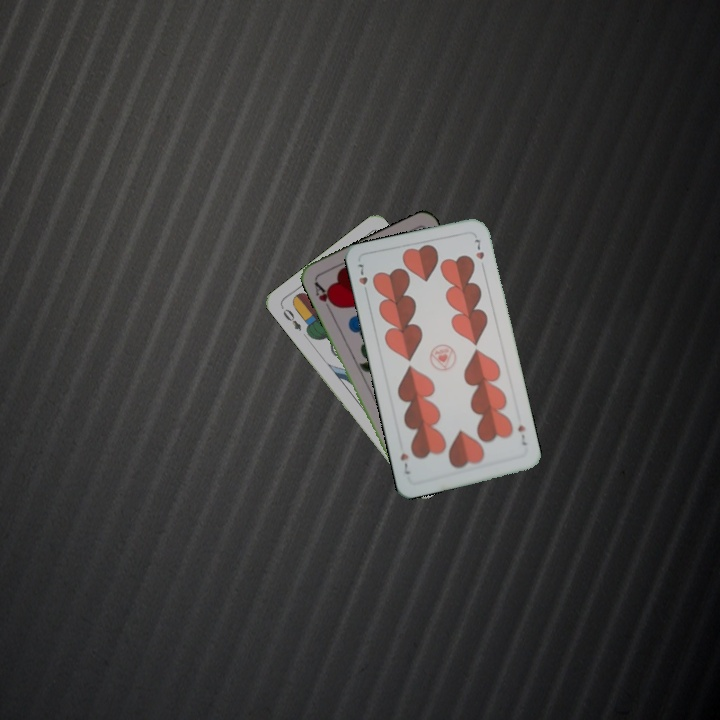EO: (279, 304, 304, 334)
H7: (354, 260, 370, 298), (514, 421, 529, 448)
HA: (310, 277, 338, 315)
